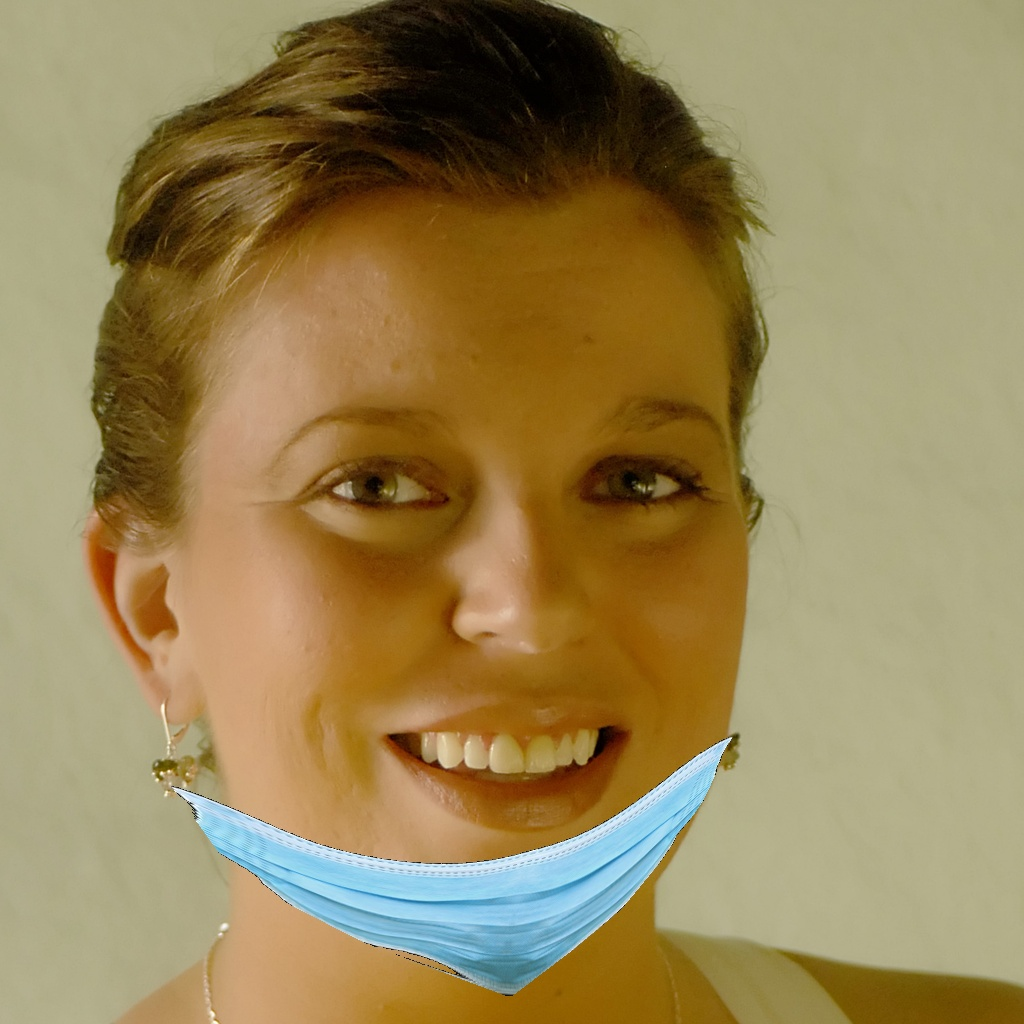mascarilla_mal_puesta: (112, 235, 819, 968)
